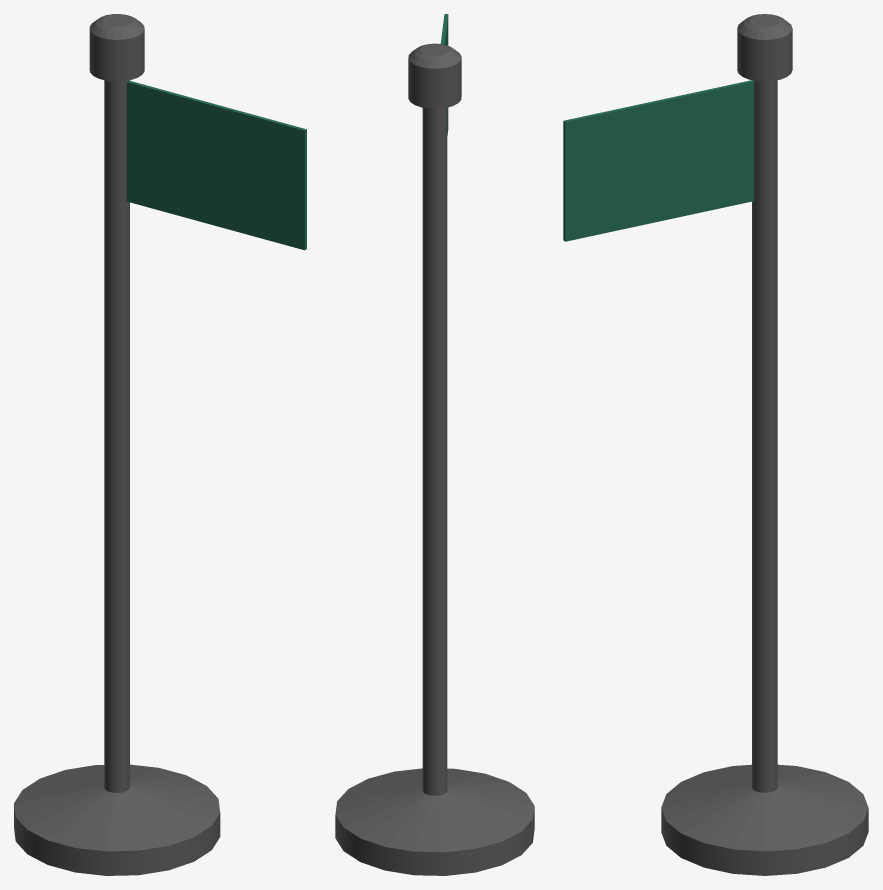
The model's file is CheckPoint.fbx.
3 renders of one model, left to right at view 1: azimuth 30°, elevation 25°; view 2: azimuth 150°, elevation 25°; view 3: azimuth 270°, elevation 25°, orthographic. The views are drawn at different scales.
Parts seen in each view (by area): view 1: Checkpoint; view 2: Checkpoint; view 3: Checkpoint.
Part boxes in pixels (<box>): Checkpoint: <box>14,14,306,875</box>; Checkpoint: <box>335,14,534,875</box>; Checkpoint: <box>563,14,868,875</box>.
Bounding box in the file's own units: 0.8193 × 3.53 × 1.2.
